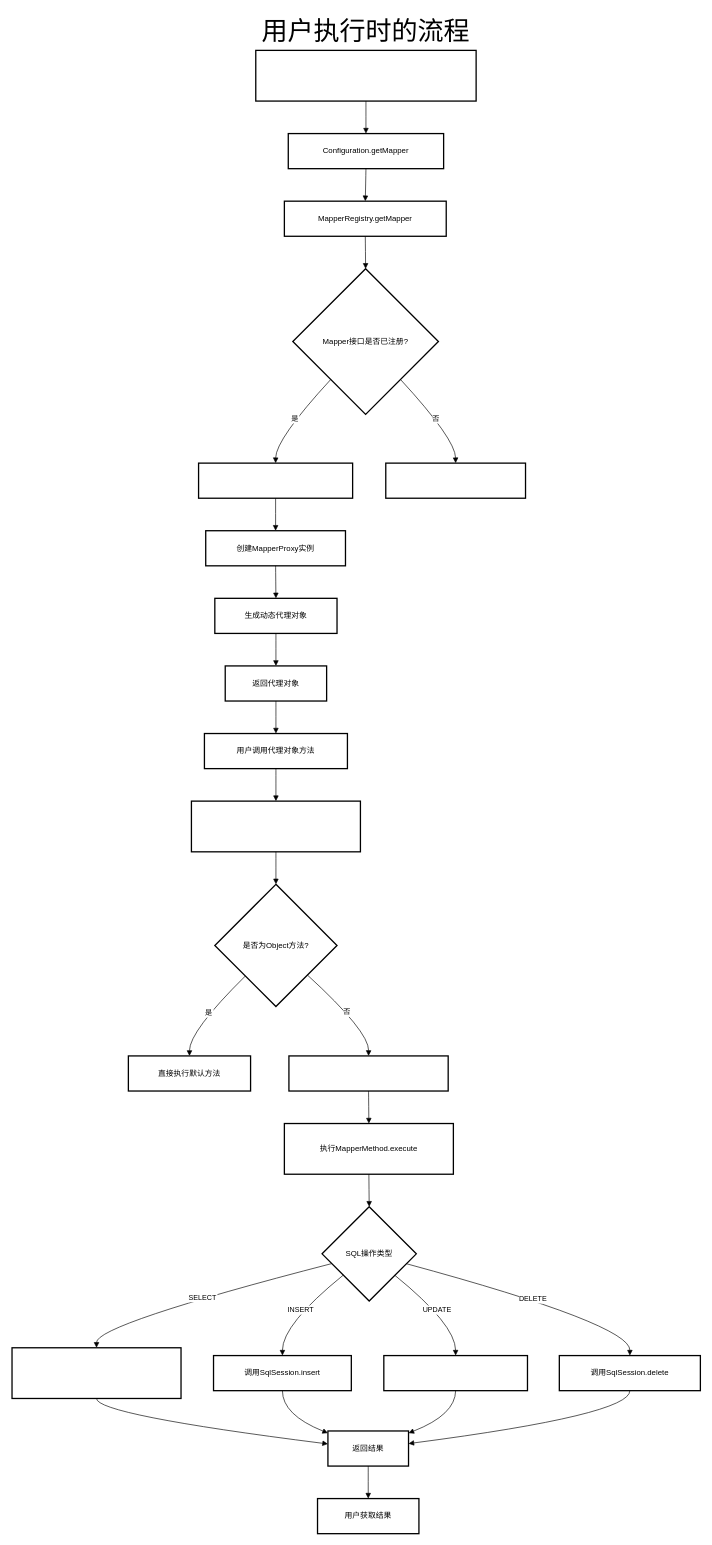
Image size: 712x1545. Some labels were removed from this diagram. The centre of each missing label's shape, as x and y in pixels:
"MapperProxy.invoke拦截方法" belongs at (x=275, y=826).
"创建或获取MapperMethod" belongs at (x=368, y=1073).
"抛出BindingException" belongs at (x=455, y=480).
"获取MapperProxyFactory" belongs at (x=275, y=480).
"调用 sqlSession.getMapperIActivityDao.class" belongs at (x=365, y=75).
"调用SqlSession.selectOne/selectList" belongs at (x=96, y=1373).
"调用SqlSession.update" belongs at (x=455, y=1373).
